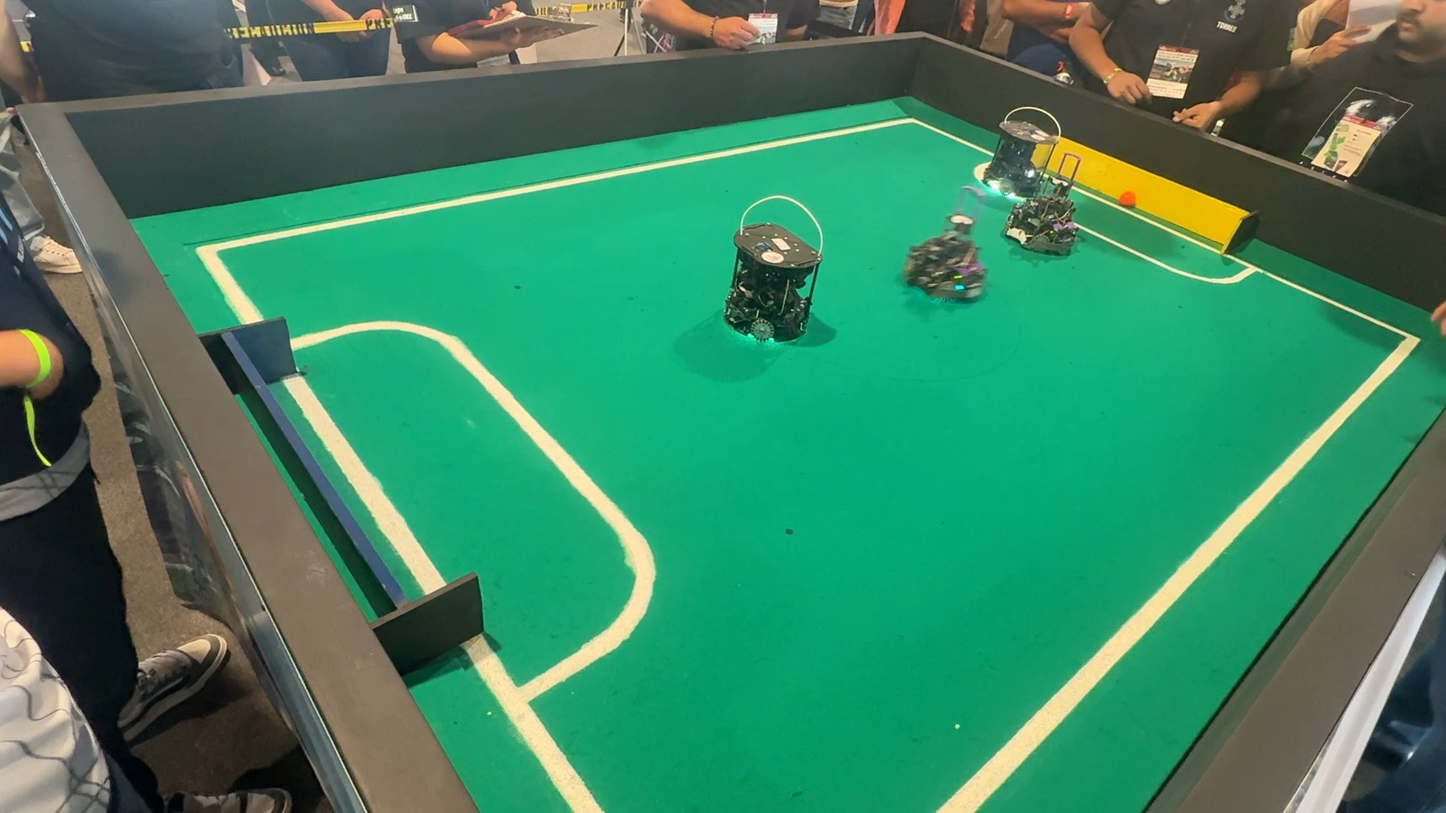Robot: (701, 186, 832, 374), (961, 104, 1080, 253), (1003, 144, 1110, 267), (897, 209, 996, 316), (1121, 187, 1139, 217)
